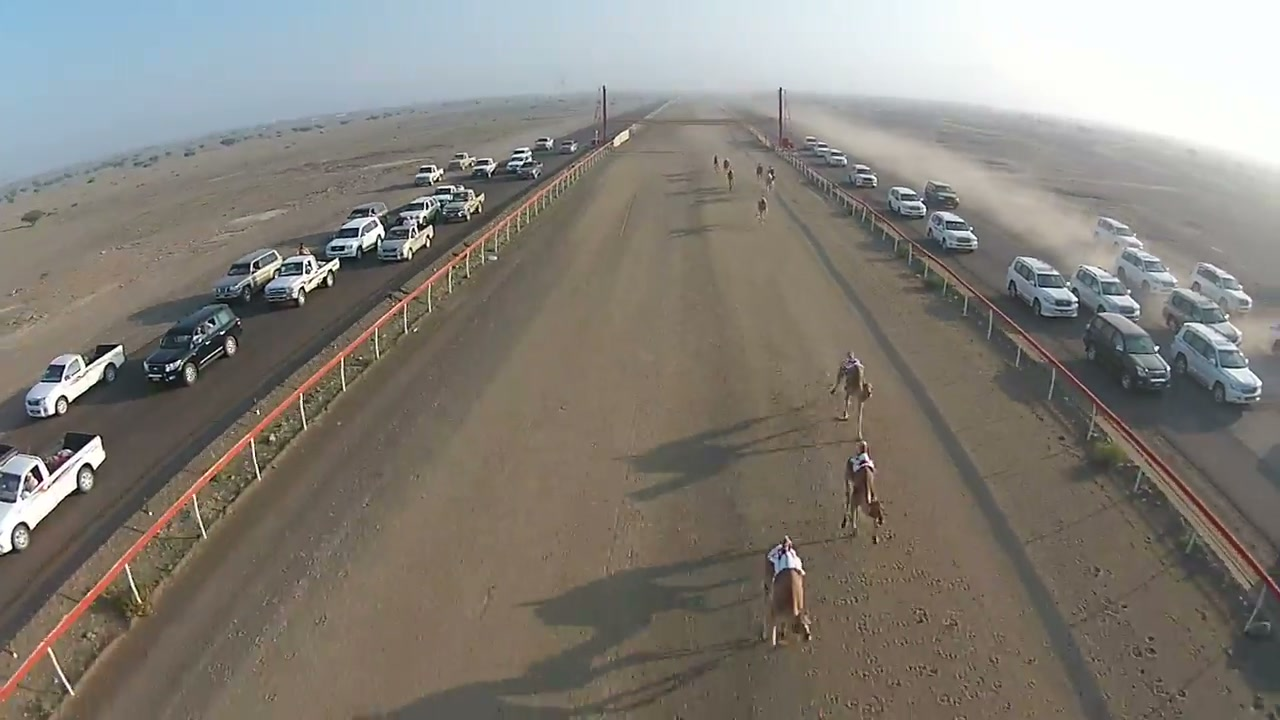animal_foot_print: (844, 522, 1011, 717)
